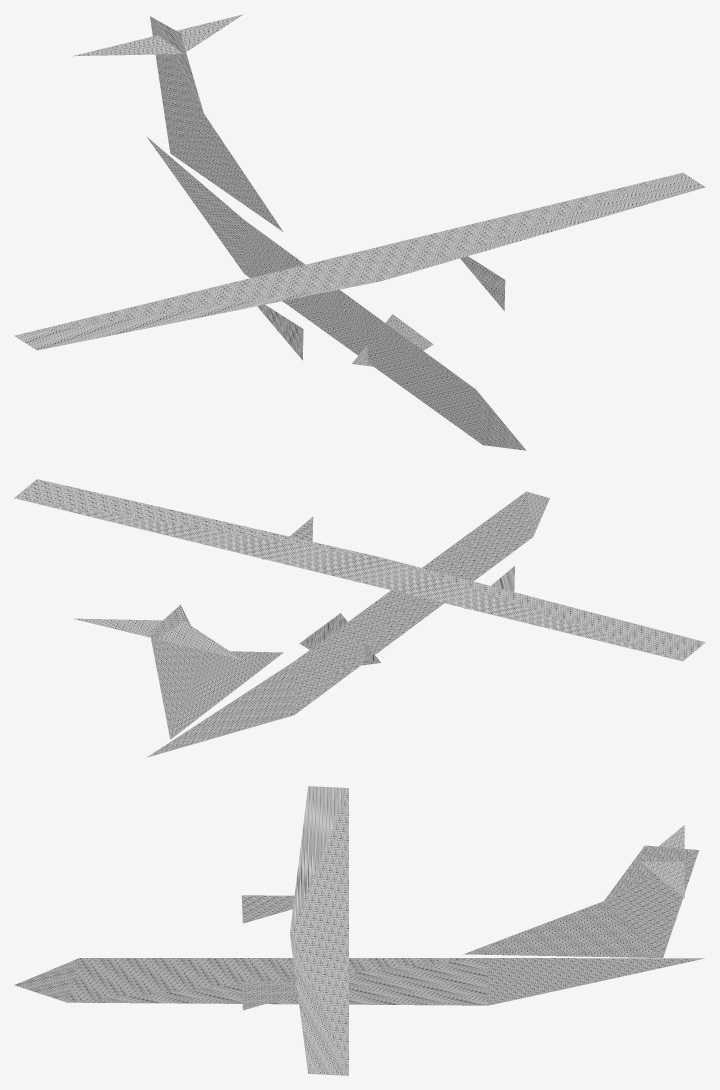
Rendered from OSP_ATR_72-200_MSFS_LOD1.gltf.
3 renders of one model, top to bottom at view 1: azimuth 30°, elevation 25°; view 2: azimuth 150°, elevation 25°; view 3: azimuth 270°, elevation 25°, orthographic. The views are drawn at different scales.
Visible parts, largest first — view 1: node1; view 2: node1; view 3: node1.
Part boxes in pixels (<box>): node1: <box>14,14,705,450</box>; node1: <box>14,479,705,757</box>; node1: <box>14,786,704,1075</box>.
Bounding box in the file's own units: 26.7 × 6.89 × 27.12.
